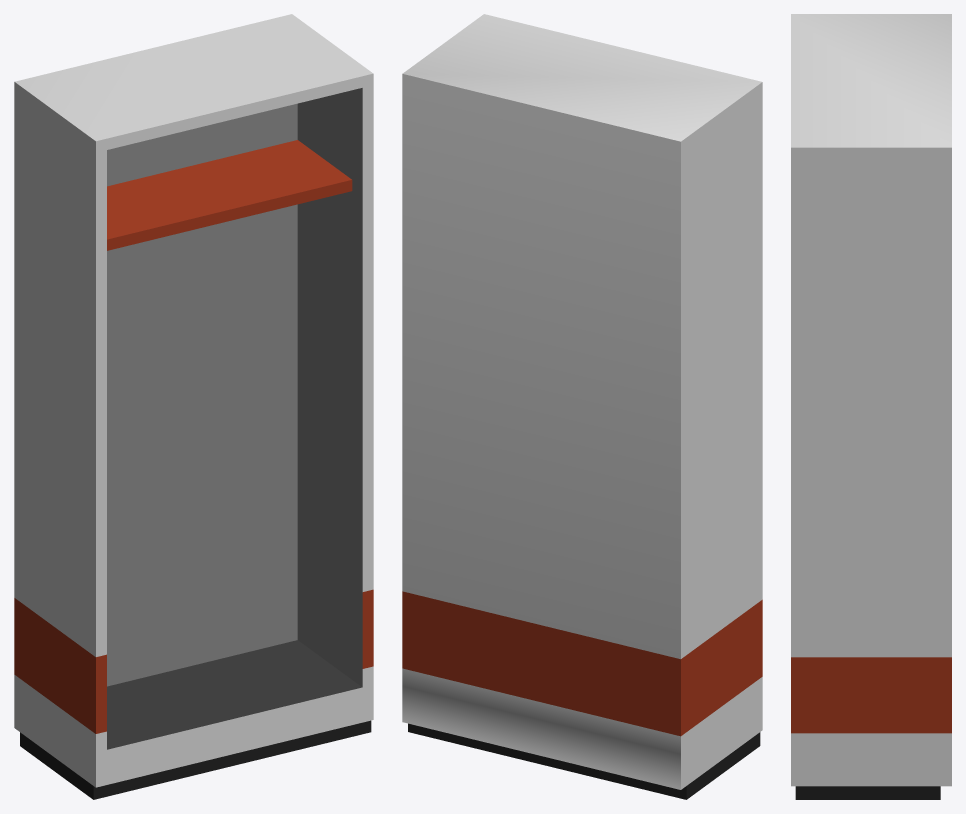
File: Drawer_1.fbx
3 views of the same model, side by side, from view 1: azimuth 30°, elevation 25°; view 2: azimuth 150°, elevation 25°; view 3: azimuth 270°, elevation 25° (orthographic).
Parts seen in each view (by area): view 1: Drawer_1; view 2: Drawer_1; view 3: Drawer_1.
Boxes of the visible parts, x1,y1,x2,y2 form: Drawer_1: [14, 14, 373, 799]; Drawer_1: [402, 14, 762, 799]; Drawer_1: [791, 14, 951, 799].
Size of the model in its own units: 80 by 182 by 40.63.
